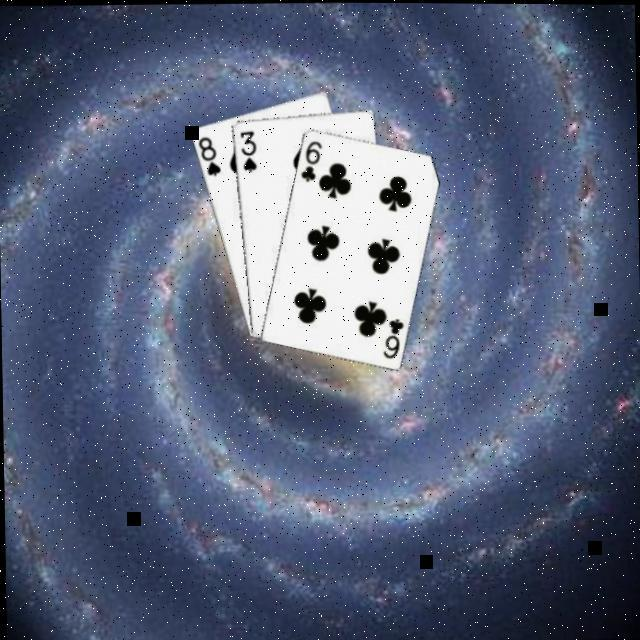3S: (234, 129, 257, 176)
6C: (294, 138, 322, 184), (376, 316, 404, 362)
8S: (192, 134, 220, 180)
